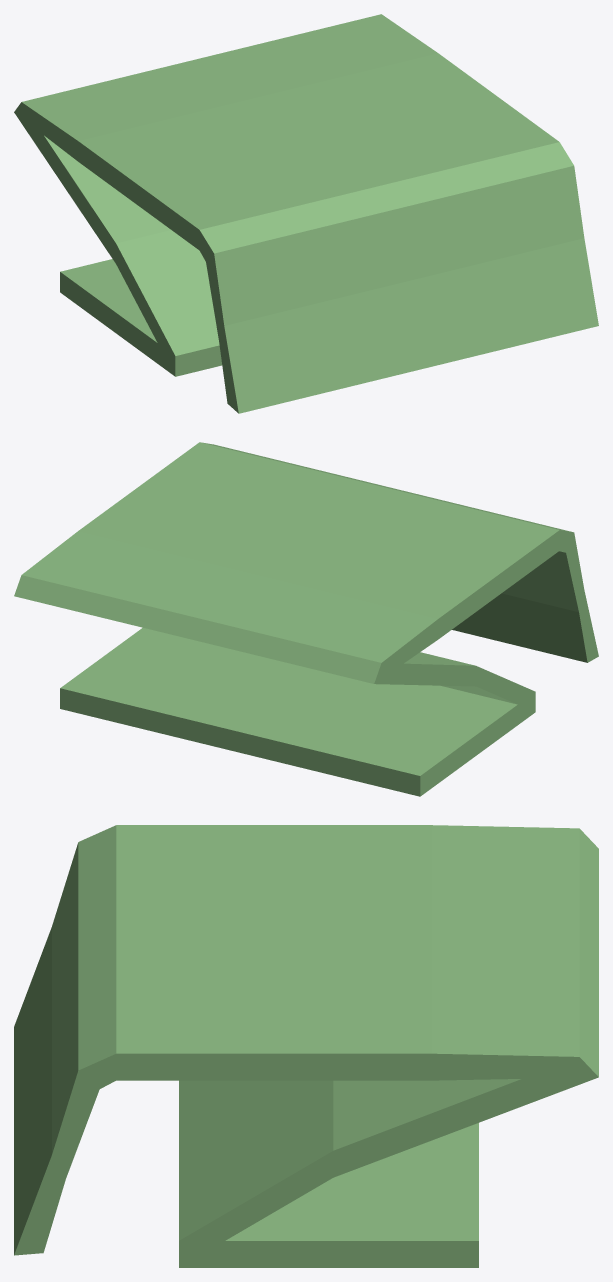
Rendered from table.fbx.
The picture shows the model from 3 angles, top to bottom: view 1: azimuth 30°, elevation 25°; view 2: azimuth 150°, elevation 25°; view 3: azimuth 270°, elevation 25°; orthographic projection. The views are drawn at different scales.
Visible parts, largest first — view 1: Cube.001; view 2: Cube.001; view 3: Cube.001.
Boxes of the visible parts, x1=… form: Cube.001: x1=14, y1=14, x2=598, y2=413; Cube.001: x1=14, y1=442, x2=598, y2=796; Cube.001: x1=14, y1=825, x2=598, y2=1267.
Bounding box in the file's own units: 409 × 179 × 442.
